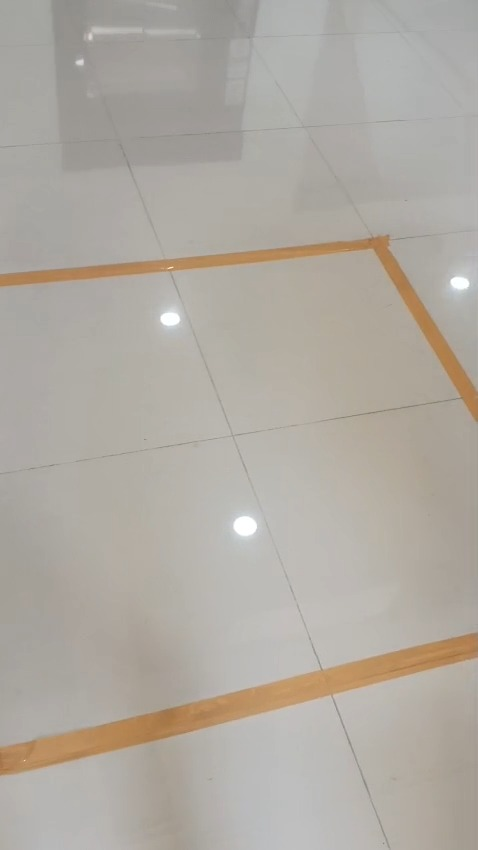floor marking: (0, 236, 477, 421), (0, 634, 477, 774)
